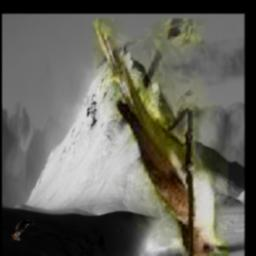Cuckoo: (92, 19, 229, 256)
Woodpecker: (10, 221, 36, 241)
